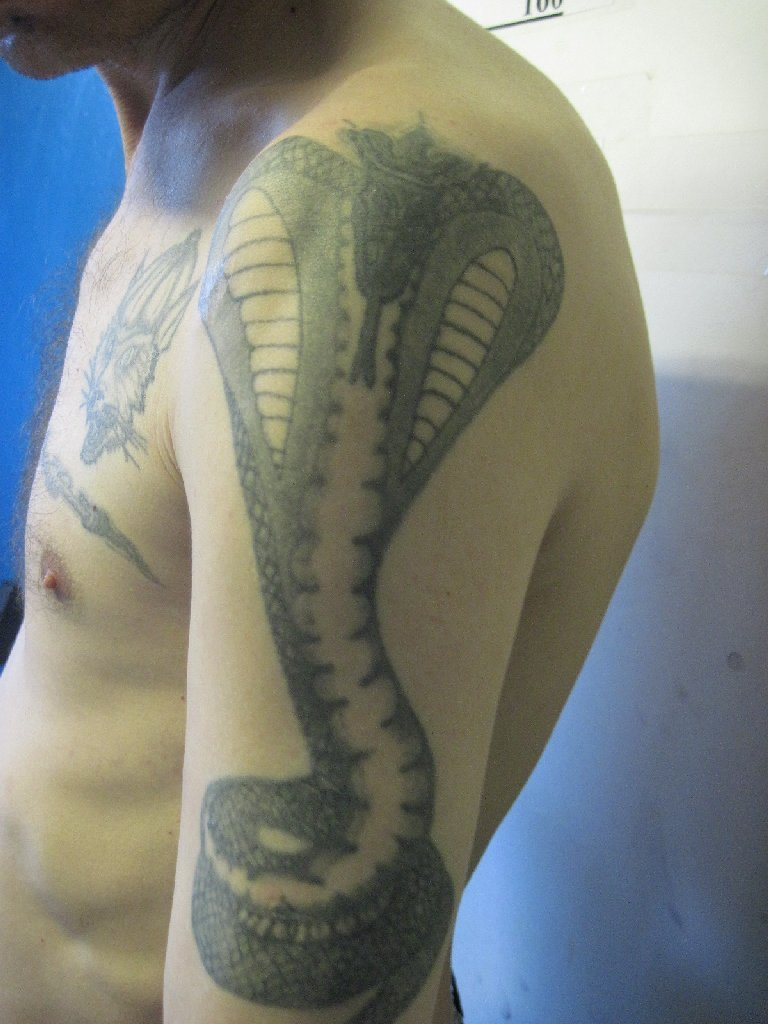tatu7_zmeya: (204, 83, 495, 998)
tatu8_kot: (64, 255, 183, 481)
